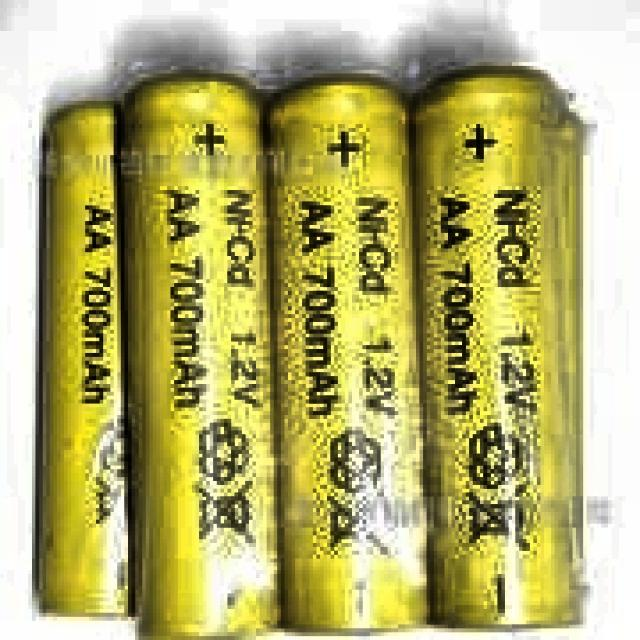Non-Valuable Waste - Batteries: (414, 68, 581, 625), (121, 72, 279, 636), (268, 78, 428, 629), (39, 102, 125, 614)
